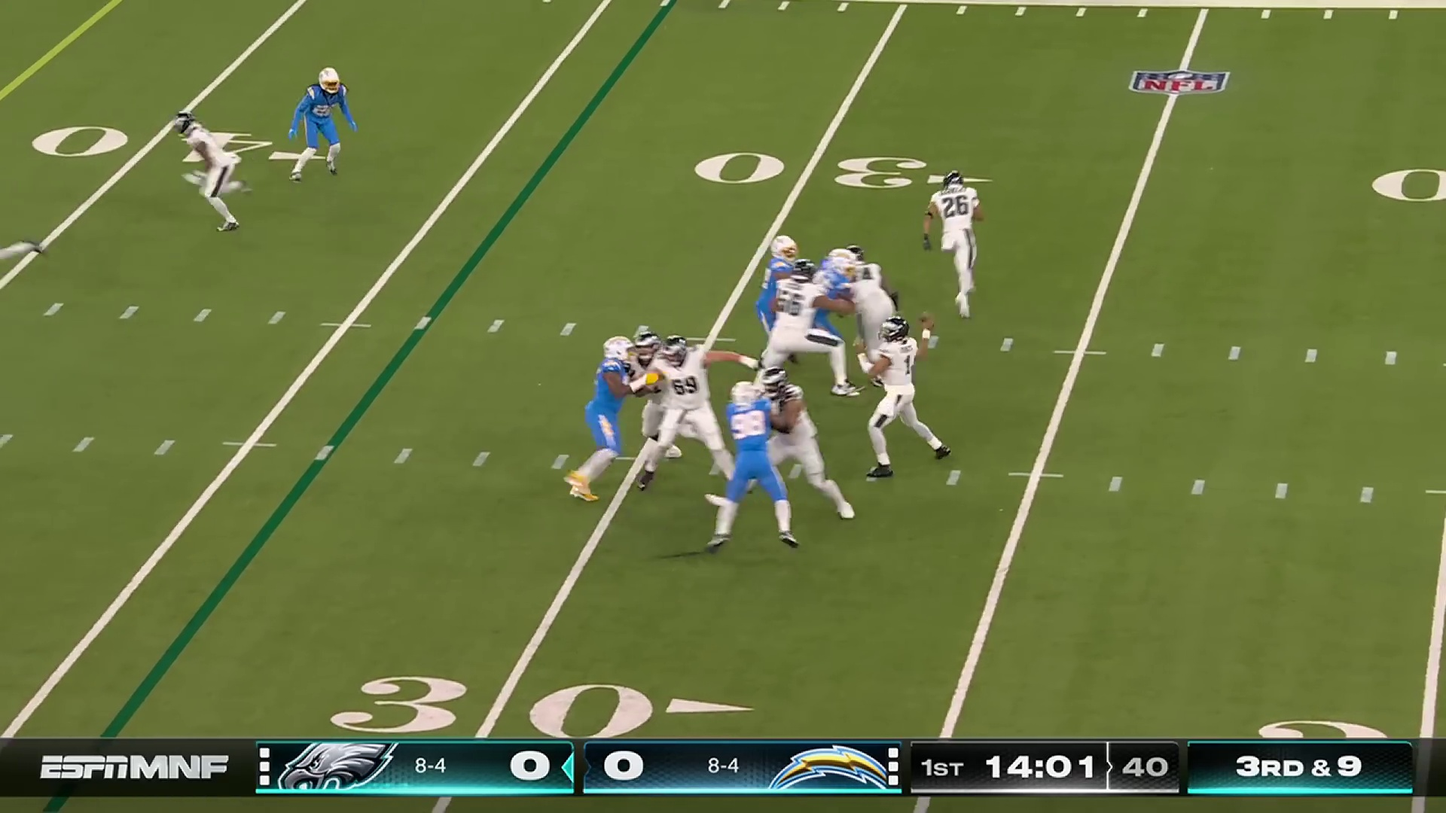ball: (917, 313, 945, 346)
player: (761, 360, 852, 527), (651, 334, 742, 490), (862, 313, 946, 471), (712, 380, 788, 553), (171, 111, 256, 237), (924, 170, 990, 328), (572, 336, 638, 494), (772, 262, 837, 397), (844, 245, 908, 373), (286, 71, 356, 184), (760, 236, 814, 375), (627, 330, 681, 466), (814, 247, 855, 380)
